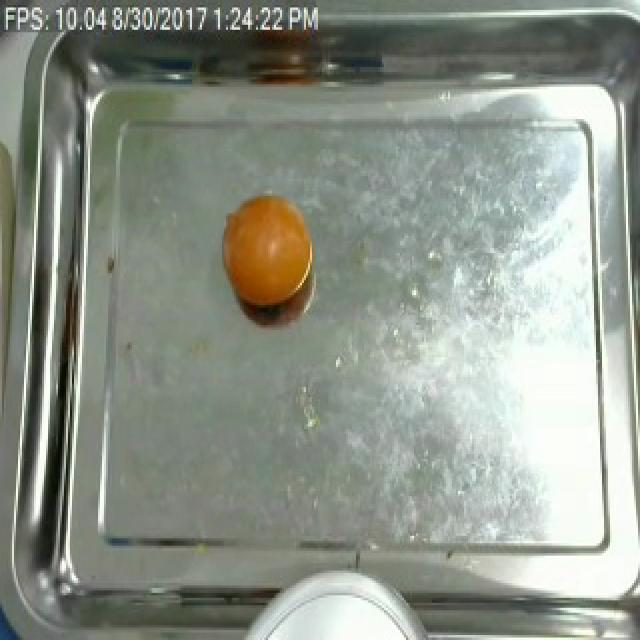Fruit: (218, 191, 316, 310)
